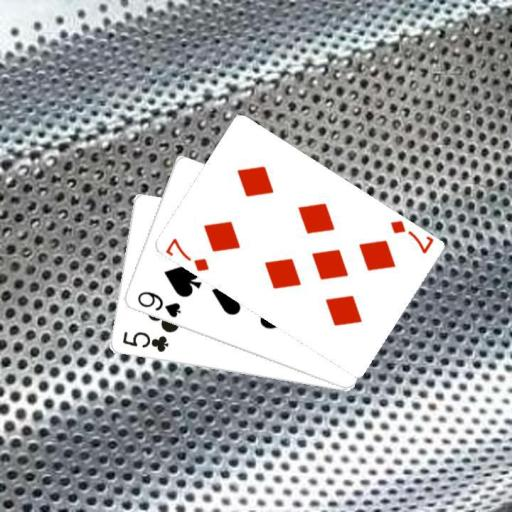5C: (119, 329, 169, 354)
7D: (163, 235, 210, 273), (386, 218, 434, 255)
9S: (134, 288, 182, 319)
